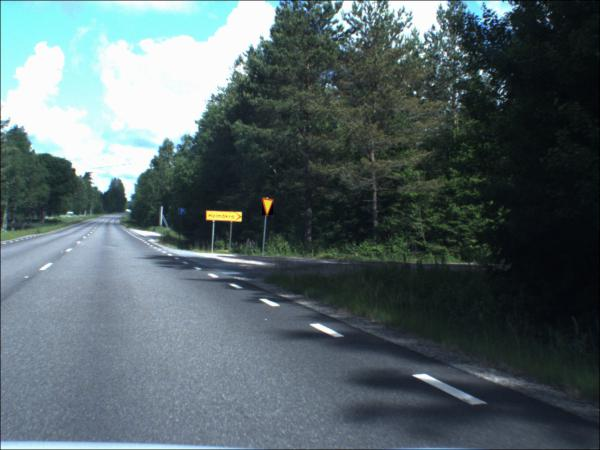GIVE_WAY: (264, 200, 276, 218)
